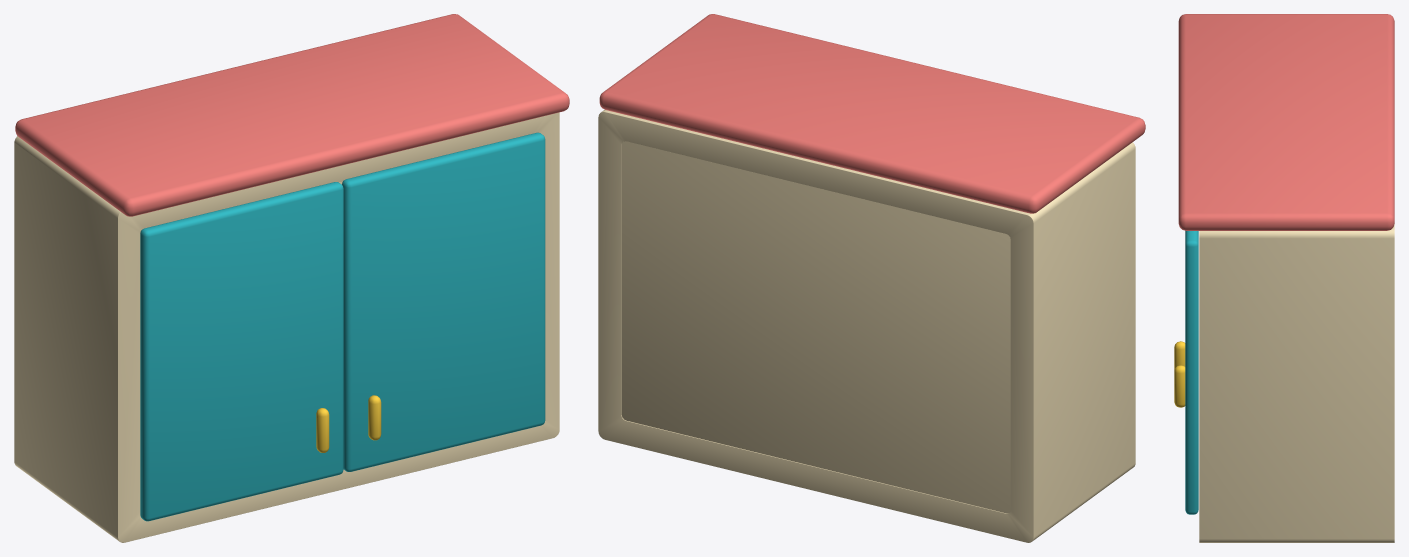
Rendered from armario_parede_2portas_moderna_coral.glb.
3 views of the same model, side by side, from view 1: azimuth 30°, elevation 25°; view 2: azimuth 150°, elevation 25°; view 3: azimuth 270°, elevation 25° (orthographic). The views are drawn at different scales.
Parts seen in each view (by area): view 1: armario_parede_2portas_moderna_coral, porta_1, porta_2; view 2: armario_parede_2portas_moderna_coral; view 3: armario_parede_2portas_moderna_coral, porta_2, porta_1.
Boxes of the visible parts, x1,y1,x2,y2 form: armario_parede_2portas_moderna_coral: (14,14,569,542); porta_1: (140,182,343,521); porta_2: (342,132,545,471); armario_parede_2portas_moderna_coral: (598,14,1145,542); armario_parede_2portas_moderna_coral: (1178,14,1394,542); porta_2: (1174,230,1198,514); porta_1: (1174,341,1185,369).
Size of the model in its own units: 0.798 by 0.6 by 0.363.
1 material, 1 textured.
